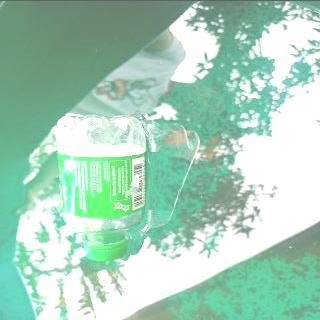bottle: (50, 111, 153, 262)
